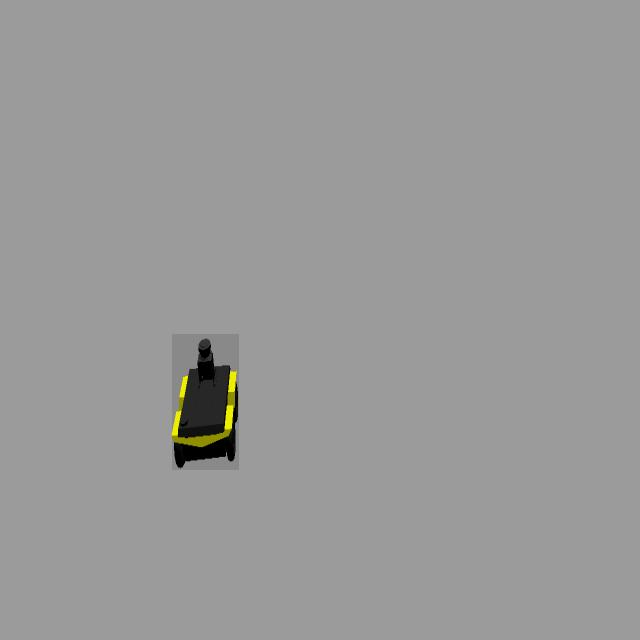jackal: (172, 334, 239, 470)
